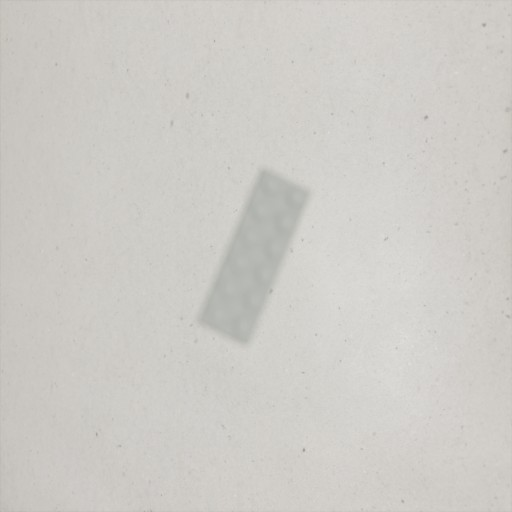lego: (196, 166, 313, 347)
